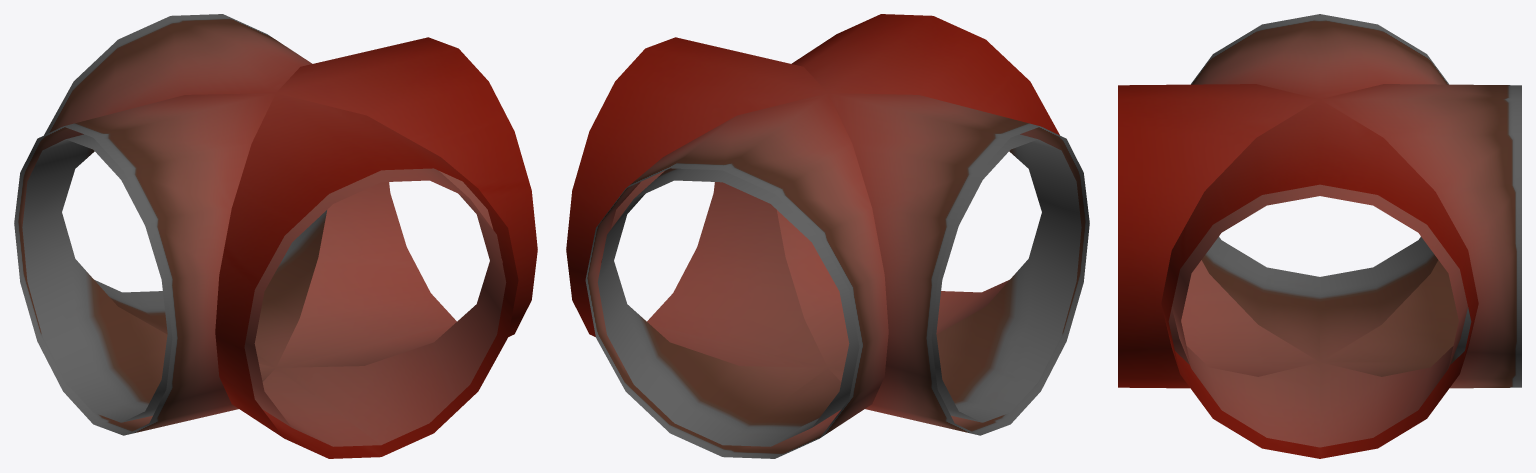
The model's file is pipe01_junction_4way_hollow.fbx.
3 views of the same model, side by side, from view 1: azimuth 30°, elevation 25°; view 2: azimuth 150°, elevation 25°; view 3: azimuth 270°, elevation 25° (orthographic). The views are drawn at different scales.
Parts seen in each view (by area): view 1: pipe01_junction_4way_hollow; view 2: pipe01_junction_4way_hollow; view 3: pipe01_junction_4way_hollow.
Boxes of the visible parts, x1,y1,x2,y2 form: pipe01_junction_4way_hollow: (14, 14, 537, 458); pipe01_junction_4way_hollow: (566, 14, 1089, 458); pipe01_junction_4way_hollow: (1118, 14, 1521, 458).
Size of the model in its own units: 16 by 12 by 16.
